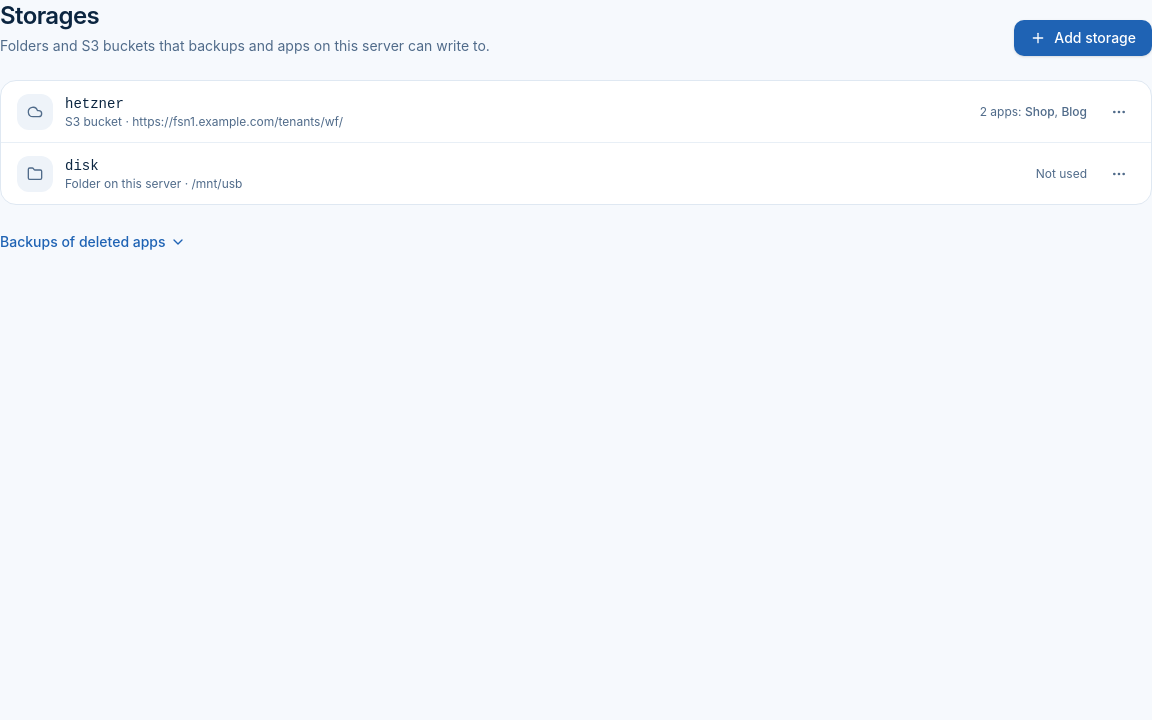
Test: StoragesSettings › opens Advanced at once on an edit that uses it
The width and height of the screenshot is (1152, 720).
Click the button named "Actions for hetzner" at (1119, 112), box [1103, 96, 1135, 128]
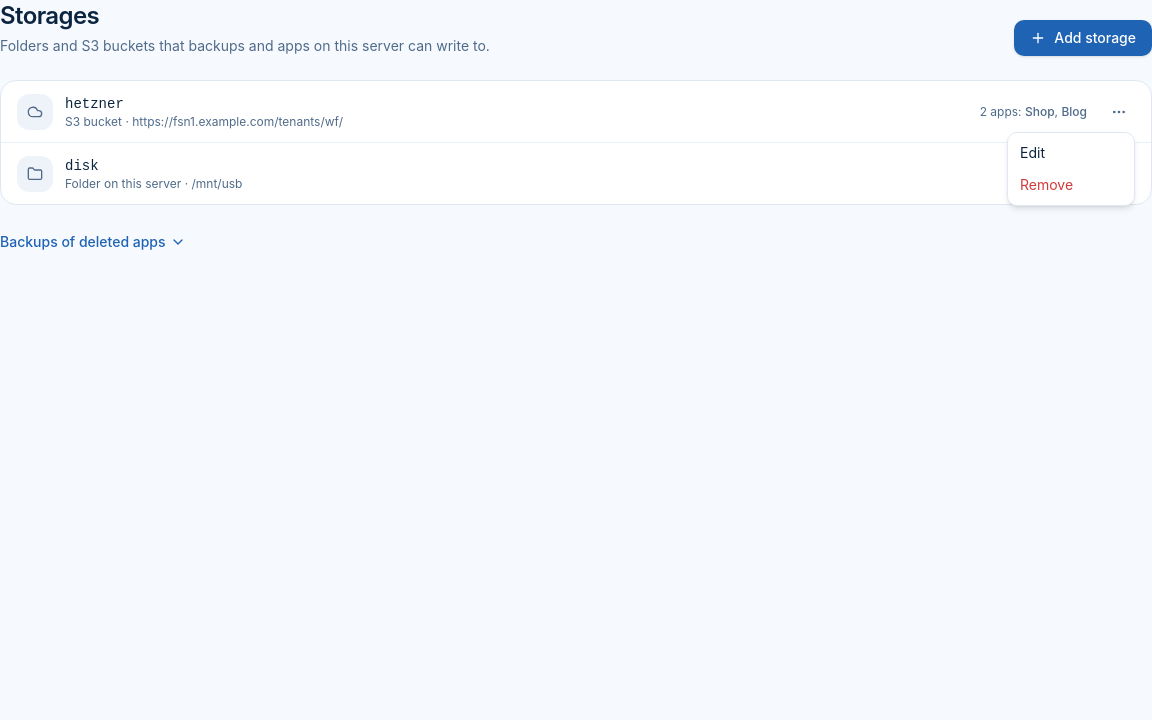
Click the menu item "Edit" at (1032, 152), box [1020, 144, 1045, 161]
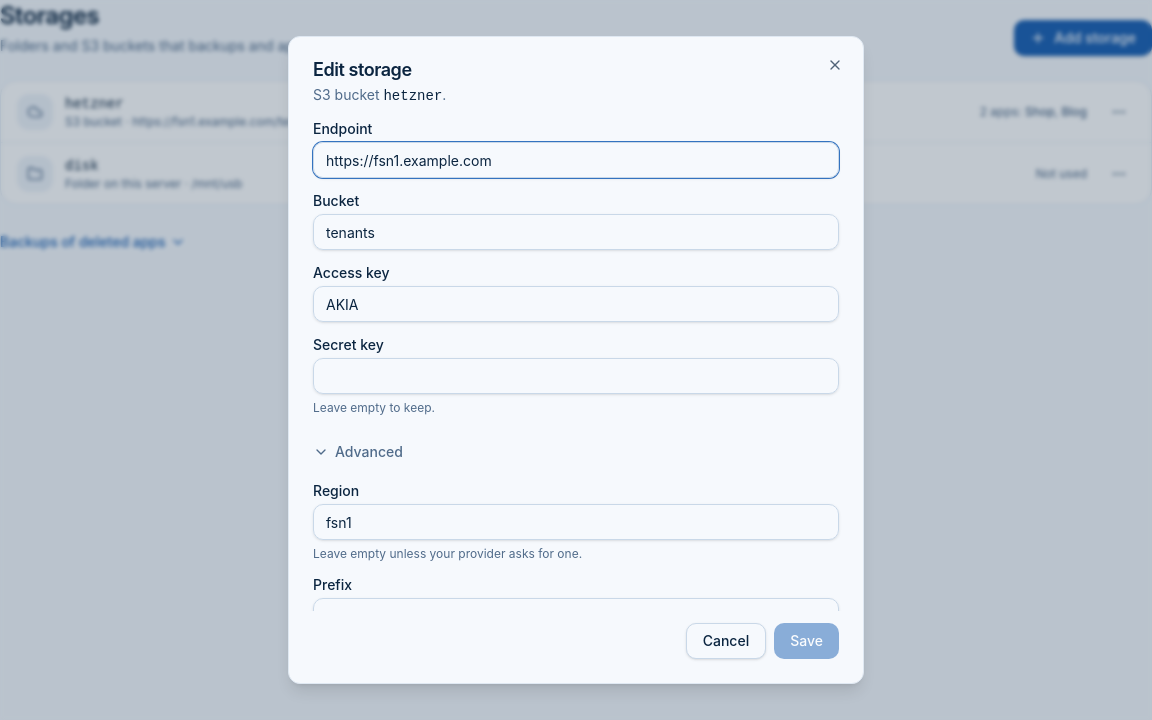
Expected: the field labelled "Region" holds "fsn1", [313, 504, 839, 540]
